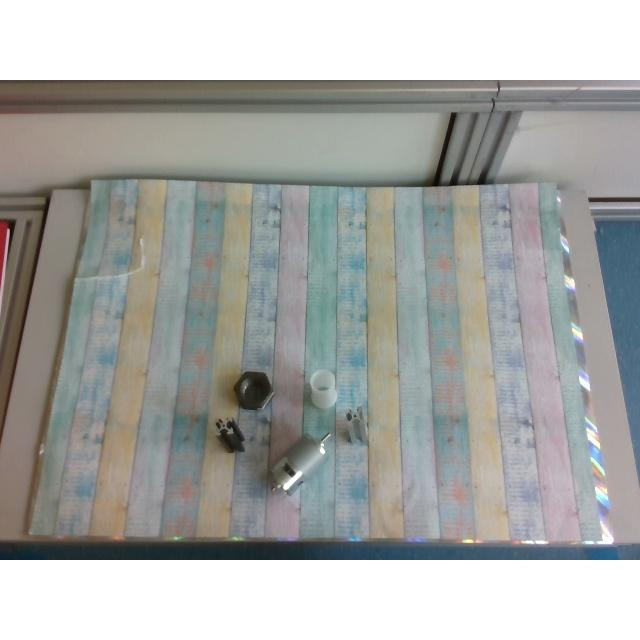F20_20_B: (216, 418, 244, 452)
F20_20_G: (345, 407, 367, 443)
M30: (234, 371, 274, 409)
Motor2: (268, 433, 332, 493)
Spacer: (310, 368, 336, 408)
